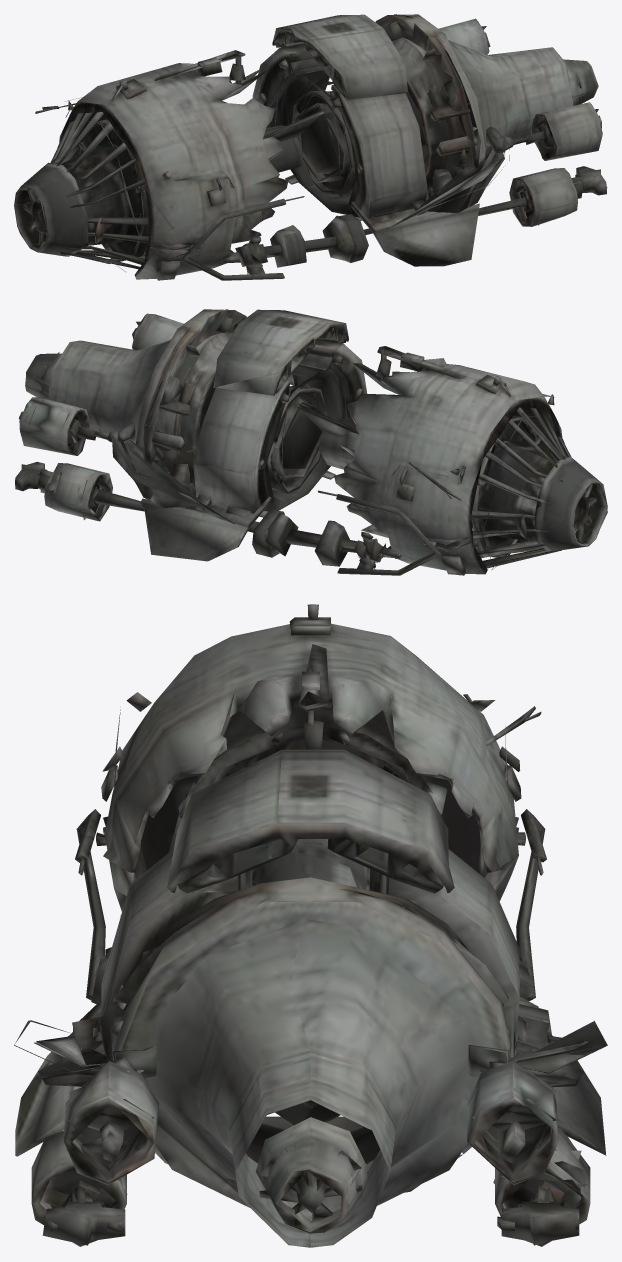
File: l_crashship.glb
The picture shows the model from 3 angles, top to bottom: view 1: azimuth 30°, elevation 25°; view 2: azimuth 150°, elevation 25°; view 3: azimuth 270°, elevation 25°; orthographic projection. The views are drawn at different scales.
Bounding box in the file's own units: 0.957 × 0.3321 × 0.4956.
Materials: 1 (1 with a texture image).
